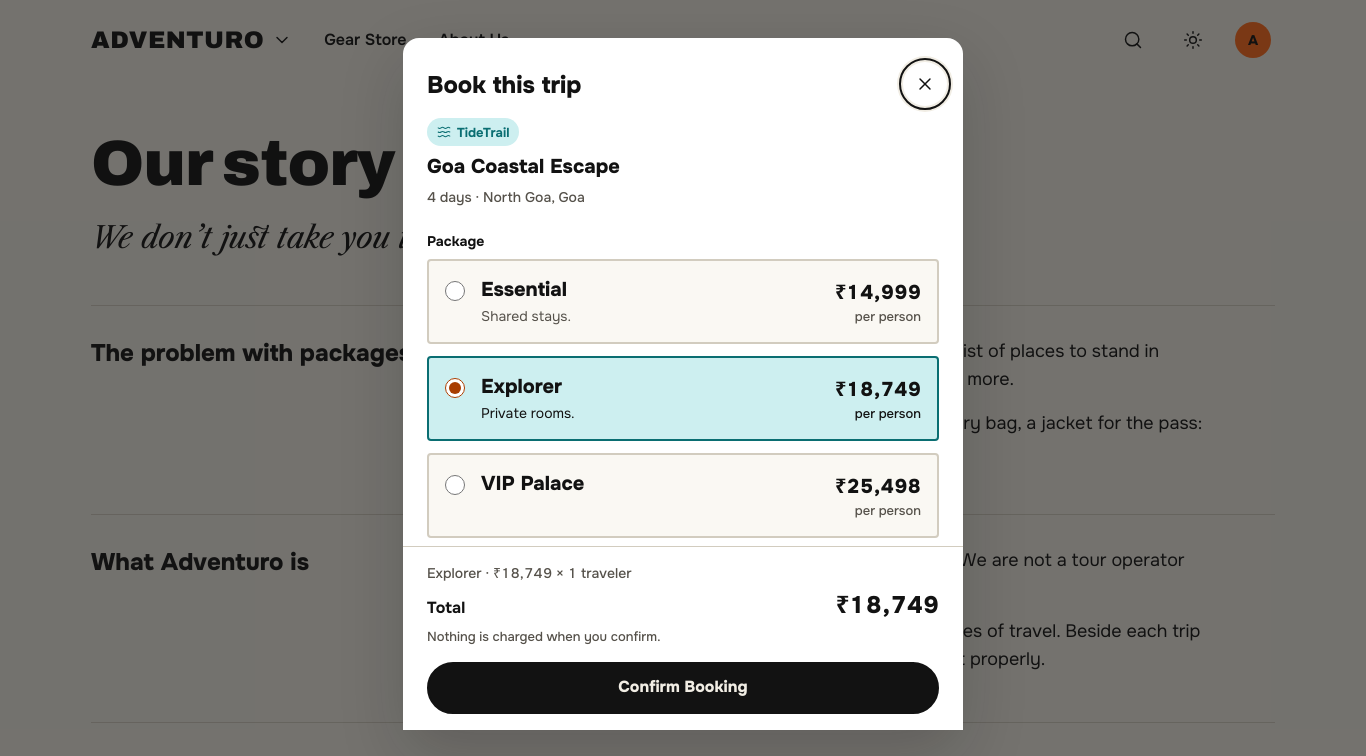
Test: BookingForm › closes back to the page it was opened on
The width and height of the screenshot is (1366, 756).
Expected: the button "Confirm Booking" is enabled, [427,662,939,714]
Step 1. Click the button named "Close" → coordinates (925, 84), box [903,62,947,106]
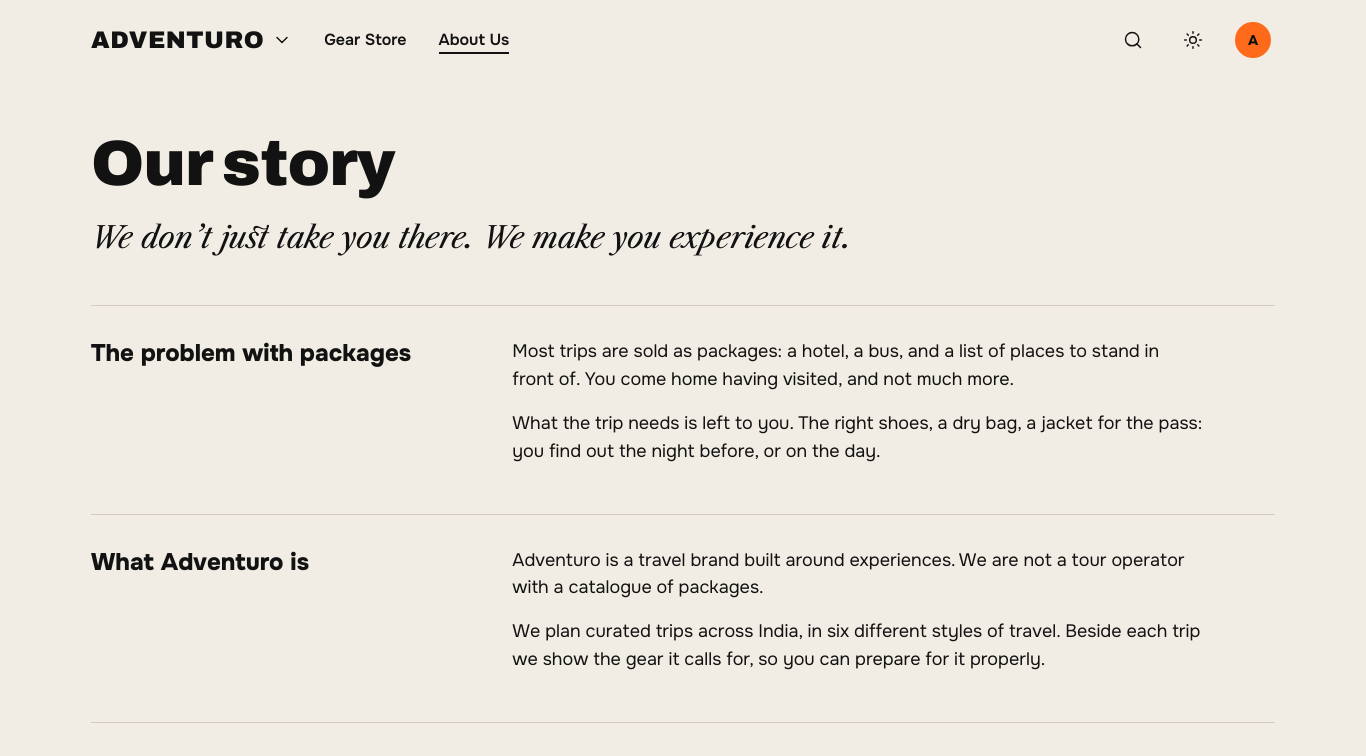
Expected: the dialog is gone
